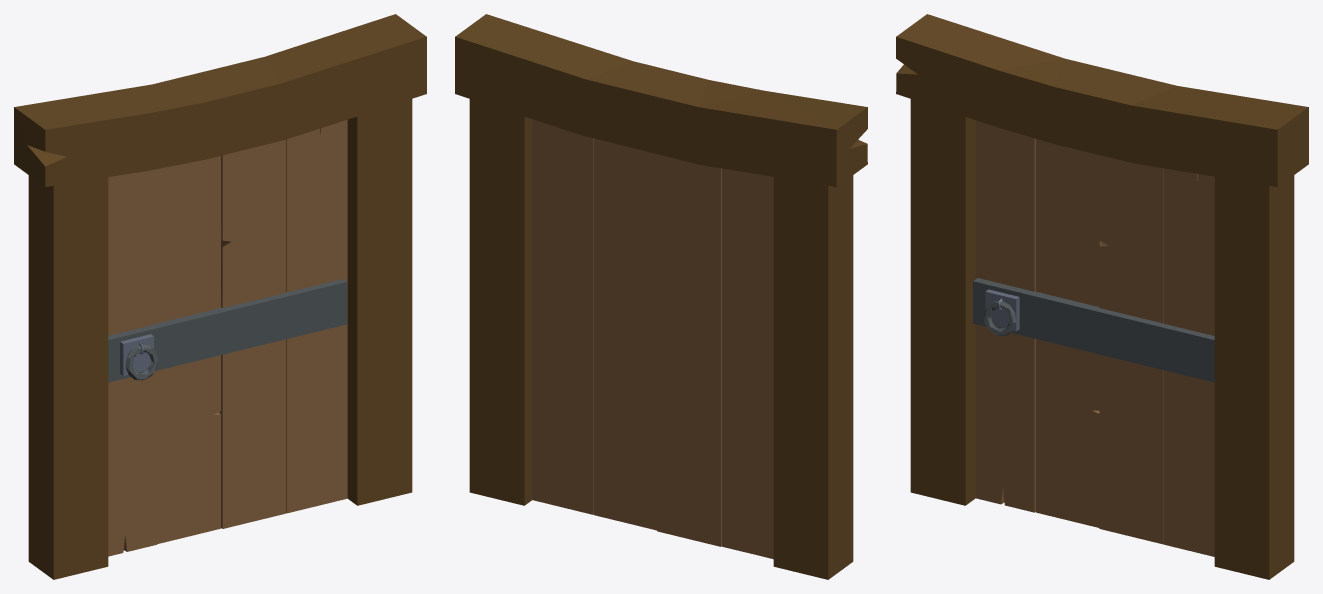
File: Door_01.fbx
3 views of the same model, side by side, from view 1: azimuth 30°, elevation 25°; view 2: azimuth 150°, elevation 25°; view 3: azimuth 330°, elevation 25° (orthographic).
Parts seen in each view (by area): view 1: Door_01; view 2: Door_01; view 3: Door_01.
Part boxes in pixels (bbox=[...]): Door_01: bbox=[14, 14, 426, 579]; Door_01: bbox=[455, 14, 867, 579]; Door_01: bbox=[896, 14, 1308, 579].
Bounding box in the file's own units: 1.68 × 1.92 × 0.2376.
